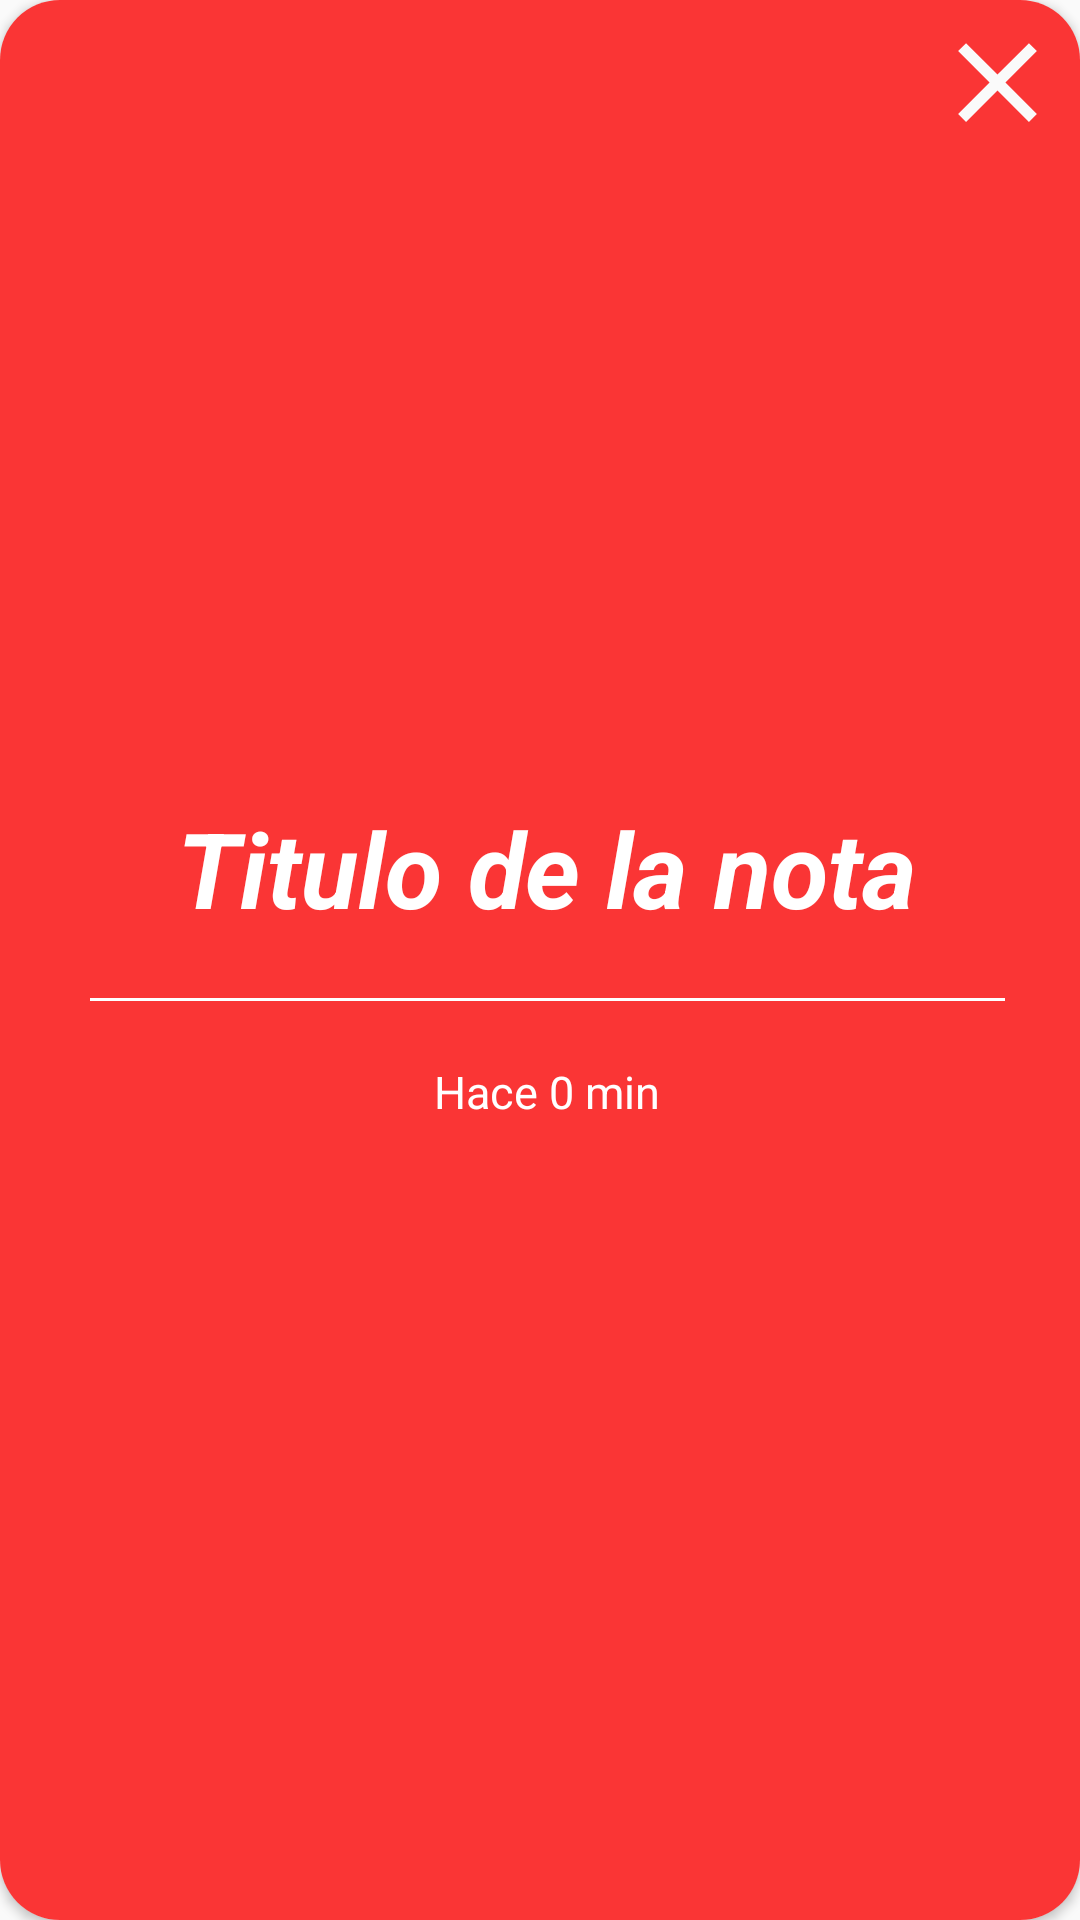

Icons on this 1080px×1920px Android screen, each with its box as box(x1, y1, x2, y2):
close: box(958, 43, 1037, 122)
